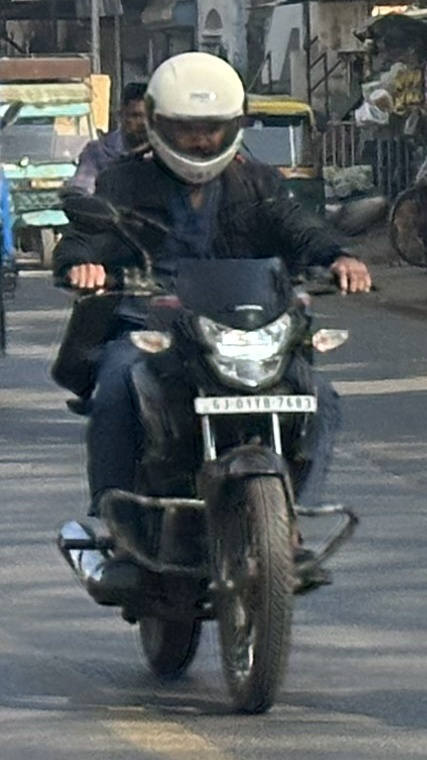BikeWithRider: (34, 43, 390, 721)
Helmet: (133, 44, 256, 189)
NoHelmet: (103, 74, 165, 158)
